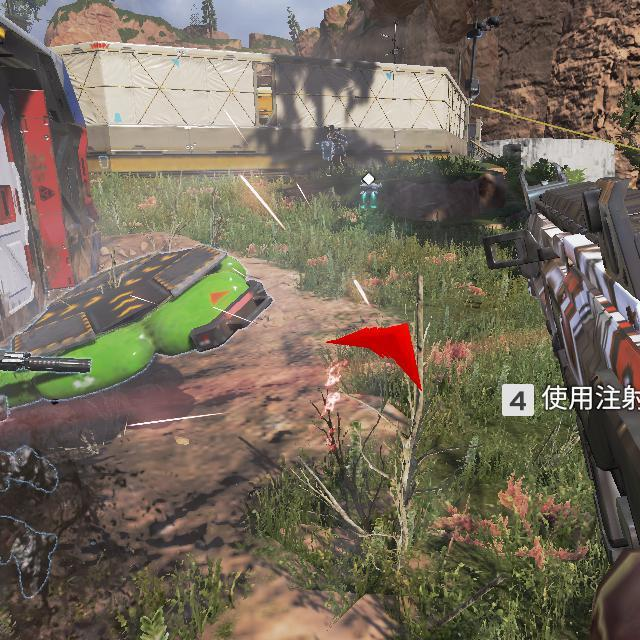avatar: (321, 122, 350, 178)
